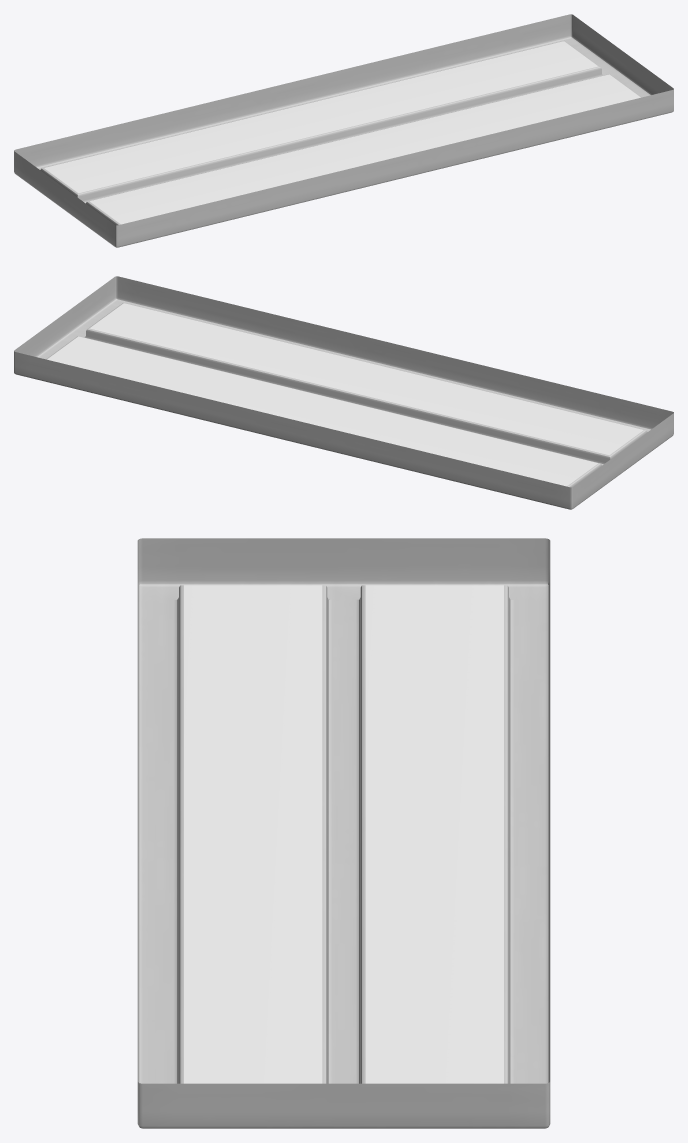
Rendered from light.fbx.
The picture shows the model from 3 angles, top to bottom: view 1: azimuth 30°, elevation 25°; view 2: azimuth 150°, elevation 25°; view 3: azimuth 270°, elevation 25°; orthographic projection. The views are drawn at different scales.
Parts seen in each view (by area): view 1: light_lo; view 2: light_lo; view 3: light_lo.
Boxes of the visible parts, x1,y1,x2,y2 form: light_lo: (14,14,673,247); light_lo: (14,276,673,509); light_lo: (137,538,550,1128).
Bounding box in the file's own units: 2.29 × 0.0917 × 0.7312.
